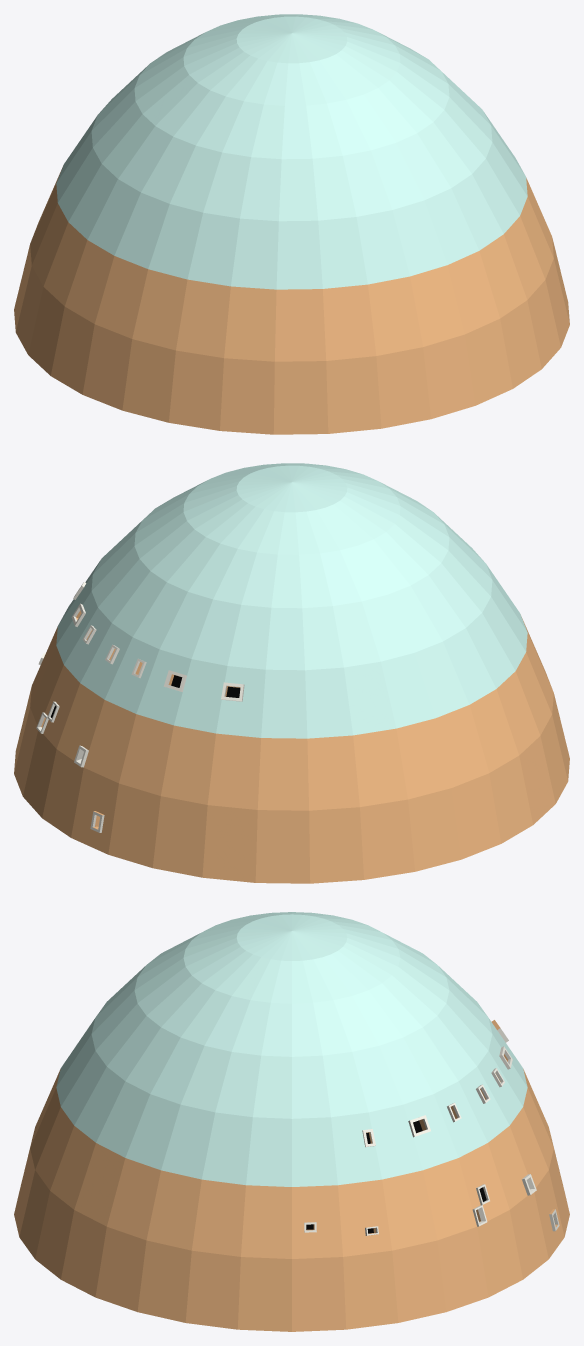
3 views of the same model, one above another, from view 1: azimuth 30°, elevation 25°; view 2: azimuth 150°, elevation 25°; view 3: azimuth 270°, elevation 25° (orthographic).
Parts seen in each view (by area): view 1: 球体.020; view 2: 球体.020; view 3: 球体.020.
Part boxes in pixels (x1,y1,x2,y2): 球体.020: (14,14,569,434); 球体.020: (14,463,569,883); 球体.020: (14,912,569,1331).
Size of the model in its own units: 2736 by 1539 by 2736.
